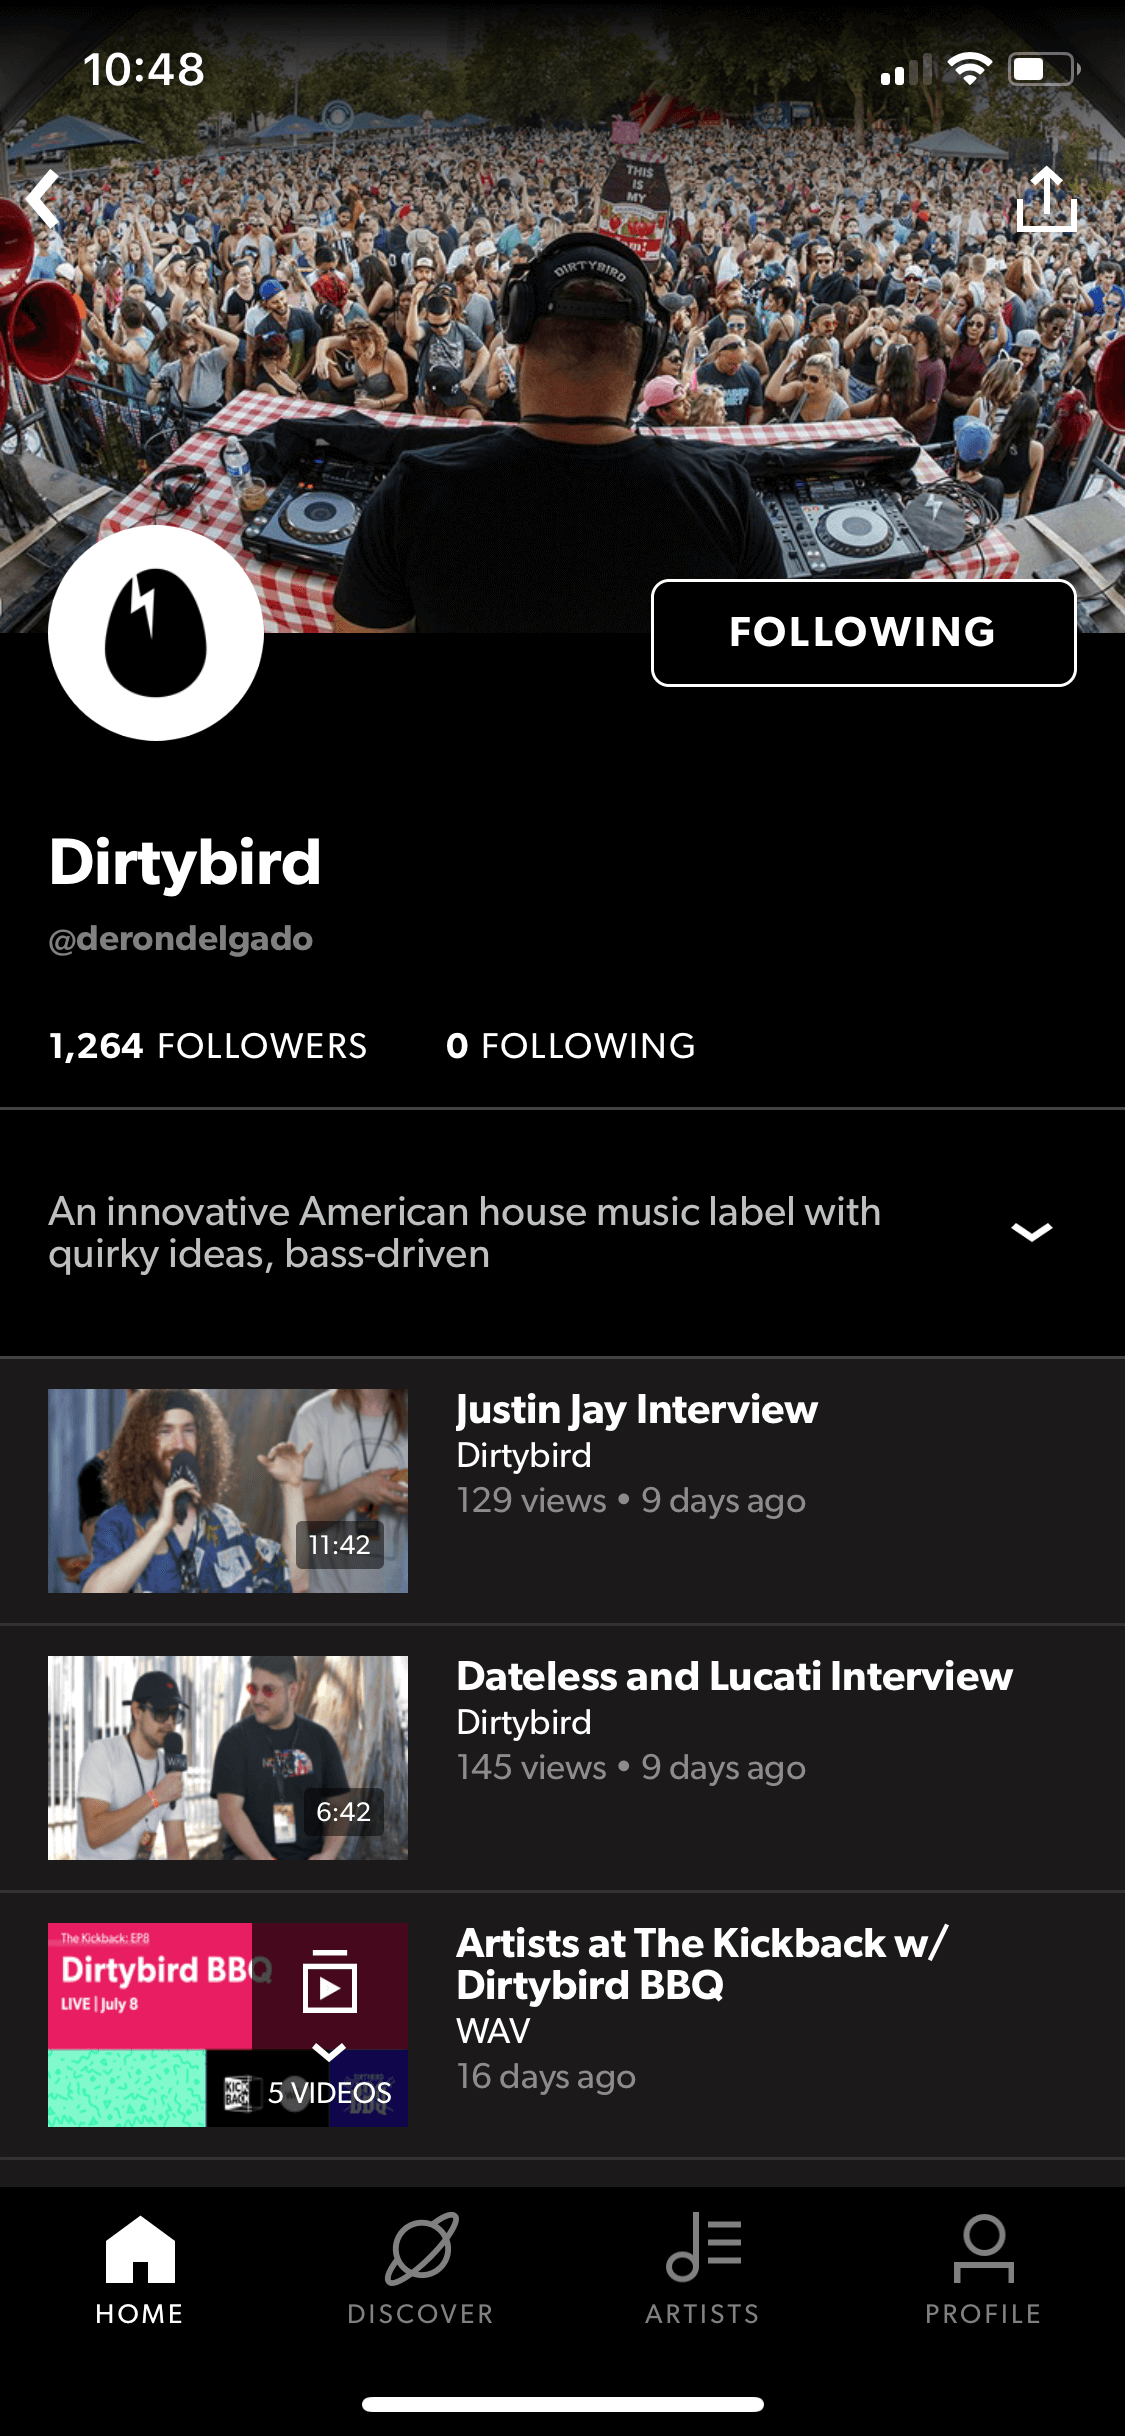Buttons: (629, 553, 1095, 704), (974, 130, 1103, 267)
